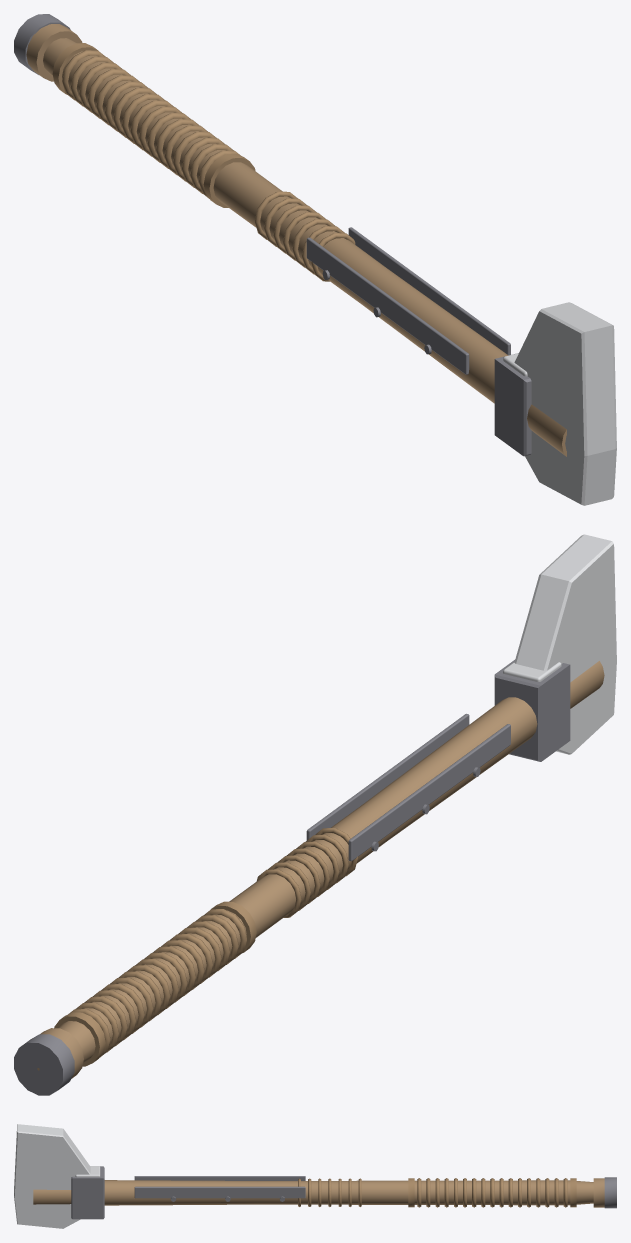
The model's file is bearded-axe.glb.
The picture shows the model from 3 angles, top to bottom: view 1: azimuth 30°, elevation 25°; view 2: azimuth 150°, elevation 25°; view 3: azimuth 270°, elevation 25°; orthographic projection. The views are drawn at different scales.
Visible parts, largest first — view 1: bearded-axe; view 2: bearded-axe; view 3: bearded-axe.
Boxes of the visible parts, x1,y1,x2,y2 form: bearded-axe: (14,14,616,505); bearded-axe: (14,534,616,1095); bearded-axe: (14,1124,616,1228).
Bounding box in the file's own units: 0.0408 × 0.1384 × 0.775.
